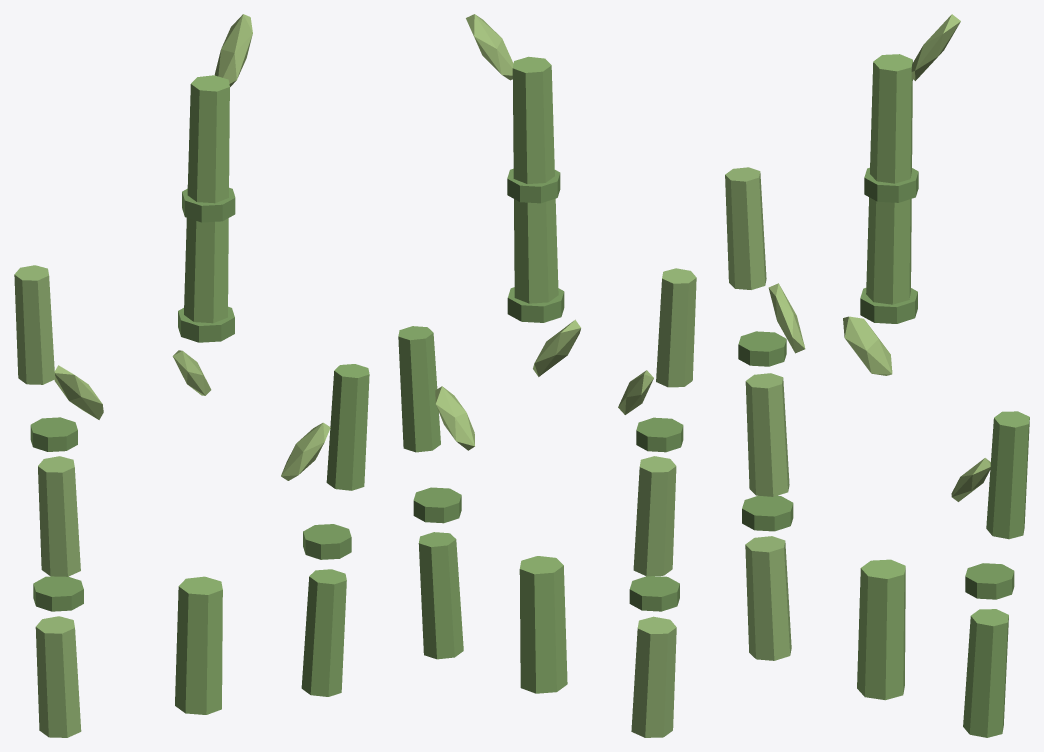
3 renders of one model, left to right at view 1: azimuth 30°, elevation 25°; view 2: azimuth 150°, elevation 25°; view 3: azimuth 330°, elevation 25°, orthographic. The views are drawn at different scales.
Visible parts, largest first — view 1: part0, part4, part10, part5, part12, part7, part2, part9, part6, part13, part11, part8 (+5 smaller); view 2: part0, part4, part10, part5, part12, part7, part2, part9, part6, part11, part8, part13 (+5 smaller); view 3: part0, part4, part5, part10, part7, part12, part2, part9, part14, part6, part11, part8 (+5 smaller).
Part boxes in pixels (<box>): part0: <box>175,576,222,714</box>; part4: <box>187,75,229,203</box>; part10: <box>301,569,346,696</box>; part5: <box>35,616,81,737</box>; part12: <box>326,364,369,490</box>; part7: <box>38,456,80,576</box>; part2: <box>184,218,228,323</box>; part9: <box>14,265,55,384</box>; part6: <box>33,576,83,611</box>; part13: <box>214,14,252,86</box>; part11: <box>303,524,351,559</box>; part8: <box>30,417,77,451</box>; part0: <box>519,556,567,693</box>; part4: <box>512,56,554,184</box>; part10: <box>418,532,463,659</box>; part5: <box>631,616,676,737</box>; part12: <box>398,326,440,452</box>; part7: <box>633,456,676,576</box>; part2: <box>514,198,558,303</box>; part9: <box>656,268,696,387</box>; part6: <box>629,576,679,611</box>; part11: <box>413,487,461,523</box>; part8: <box>636,417,683,452</box>; part13: <box>466,14,513,80</box>; part0: <box>857,559,905,700</box>; part4: <box>870,54,912,183</box>; part5: <box>745,536,791,660</box>; part10: <box>963,609,1008,737</box>; part7: <box>745,373,789,496</box>; part12: <box>986,411,1029,539</box>; part2: <box>866,197,911,304</box>; part9: <box>725,167,766,289</box>; part14: <box>843,316,892,375</box>; part6: <box>742,495,793,531</box>; part11: <box>965,563,1014,599</box>; part8: <box>738,331,786,366</box>.
Size of the model in its own units: 4.11 by 8.21 by 1.12.
